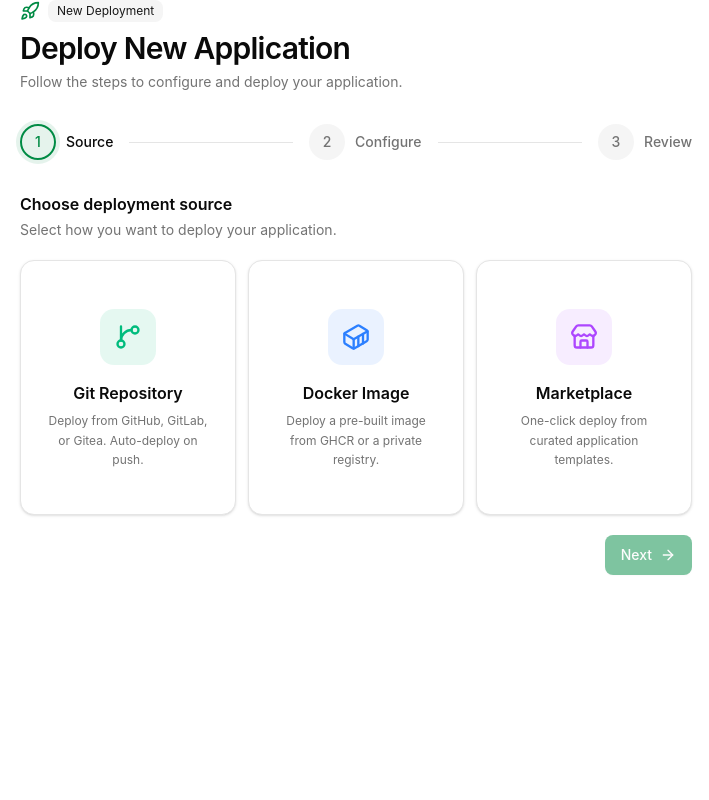
DeployWizard page › requires a name before advancing from step 2 to step 3
The width and height of the screenshot is (709, 800).
Click the text "Git Repository": x=128, y=393 [73,383,183,403]
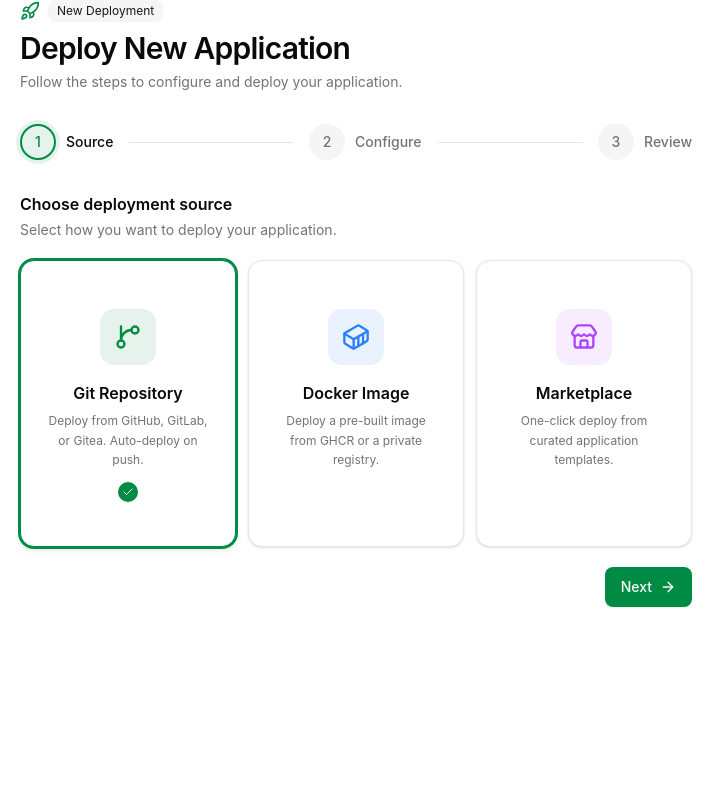
Click the button "Next": x=648, y=586 [605,566,692,606]
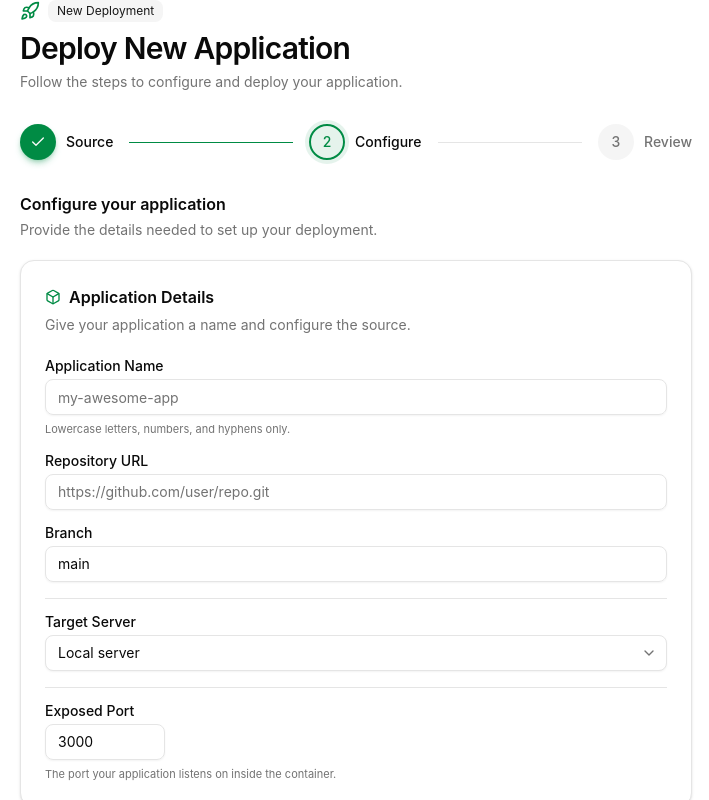
In the field labelled "Application Name": x=356, y=397 [45,379,667,415], type "my-app"
(page scrolled)
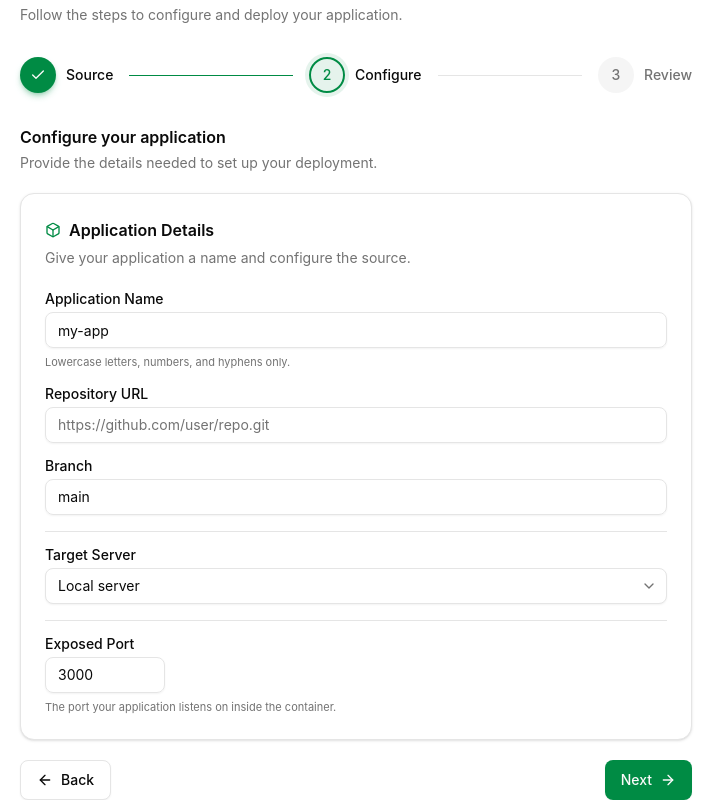
Check: the button "Next" is enabled, box [605,760,692,799]
